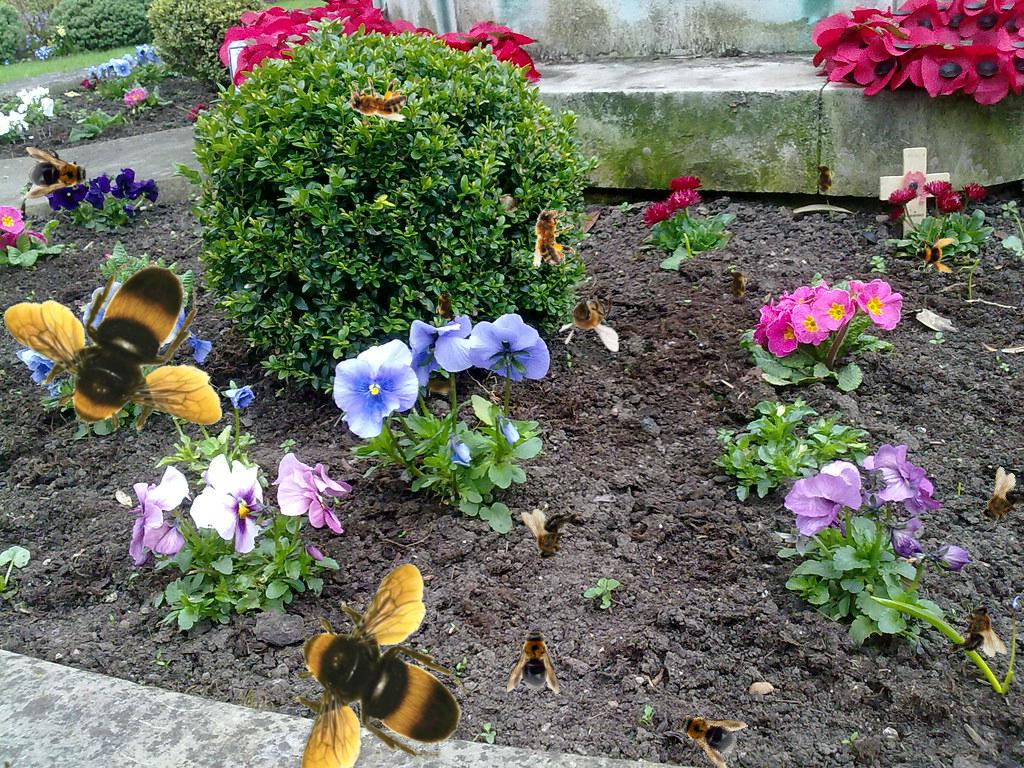Bee: (2, 257, 222, 448), (278, 562, 469, 768), (665, 697, 749, 768), (965, 463, 1024, 545), (558, 282, 619, 352), (525, 197, 579, 270), (507, 626, 559, 694), (24, 147, 92, 199), (521, 509, 583, 562), (945, 604, 1007, 657), (341, 77, 407, 122), (911, 231, 955, 275), (726, 265, 748, 305), (435, 286, 457, 326), (813, 159, 835, 199), (420, 374, 460, 396)
